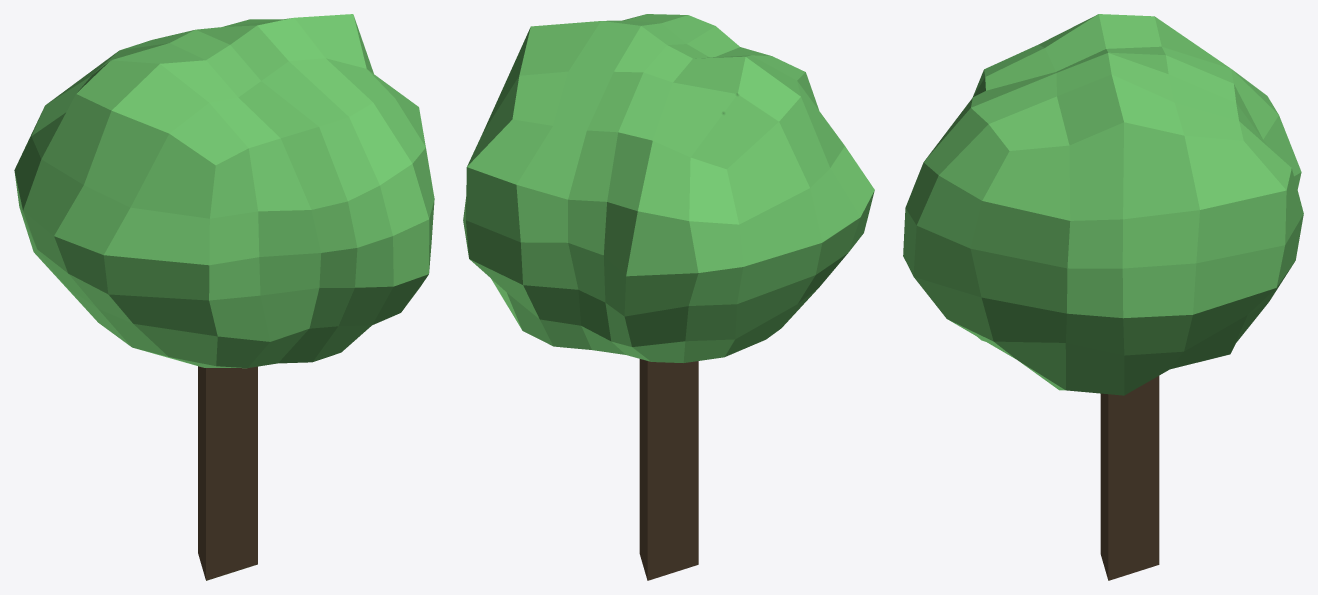
File: fbTree.fbx
3 views of the same model, side by side, from view 1: azimuth 30°, elevation 25°; view 2: azimuth 150°, elevation 25°; view 3: azimuth 270°, elevation 25° (orthographic). The views are drawn at different scales.
Visible parts, largest first — view 1: Cylinder.044; view 2: Cylinder.044; view 3: Cylinder.044.
Part boxes in pixels (x1,y1,x2,y2): Cylinder.044: (14,14,434,580); Cylinder.044: (463,14,874,580); Cylinder.044: (903,14,1303,580).
Size of the model in its own units: 194 by 275 by 189.
